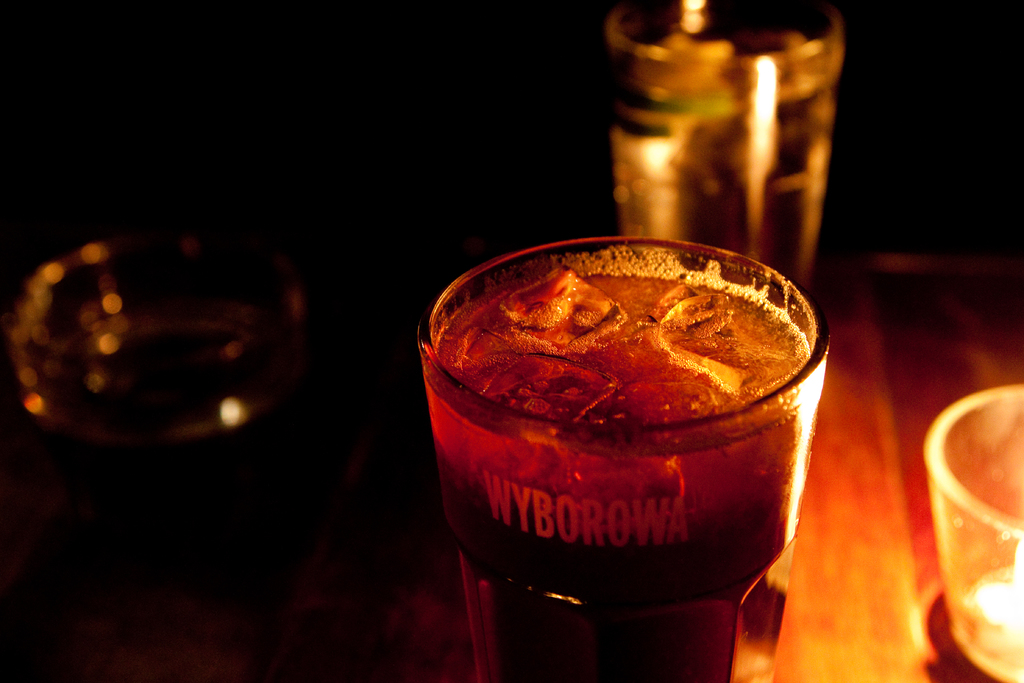Beer: (417, 235, 830, 682)
